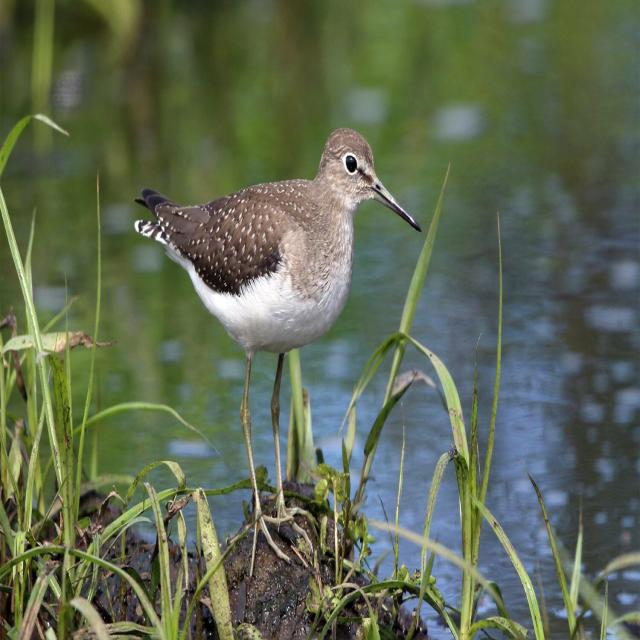Sandpiper: (128, 118, 422, 536)
